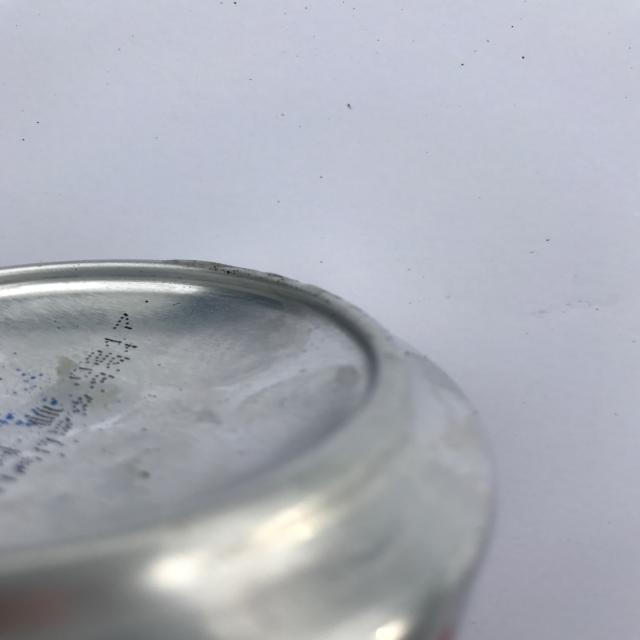metal: (0, 257, 498, 640)
